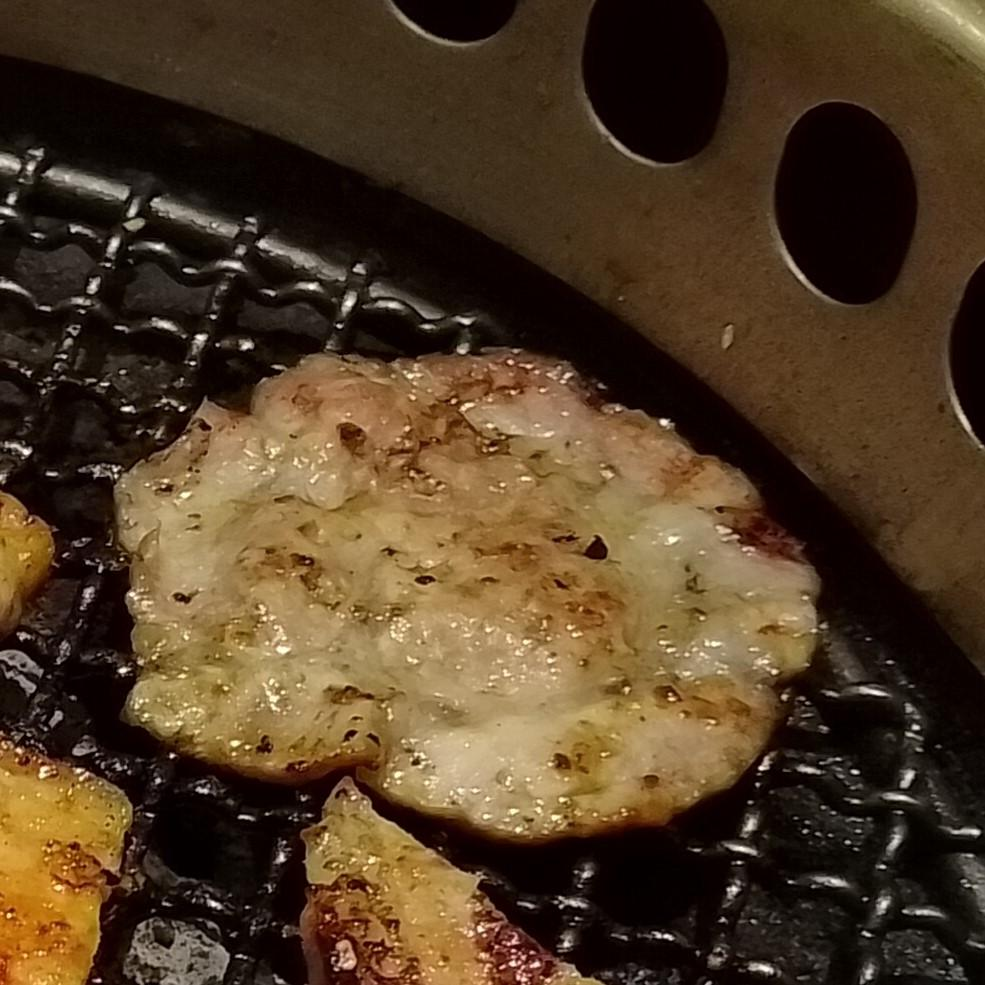Overcooked: (115, 354, 822, 842), (301, 783, 597, 984)
Well-Cooked: (0, 741, 133, 984)
